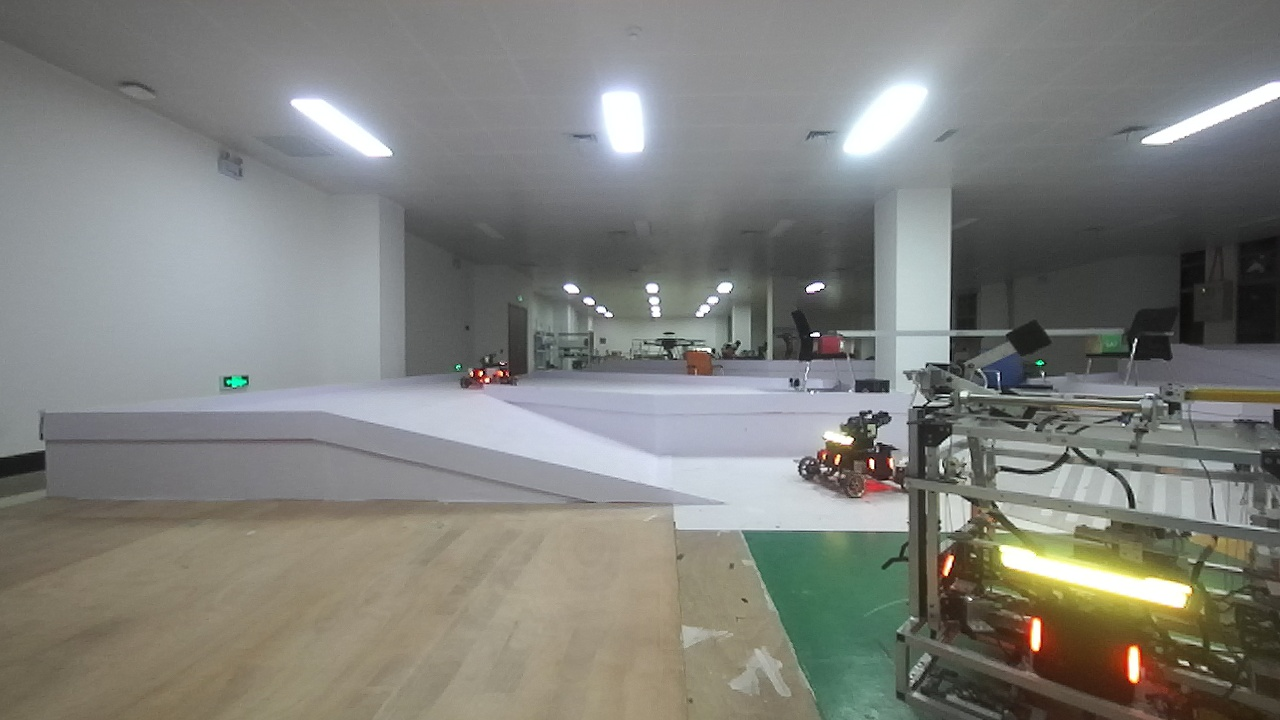car: (899, 389, 1279, 719), (799, 414, 902, 494), (449, 343, 523, 401)
